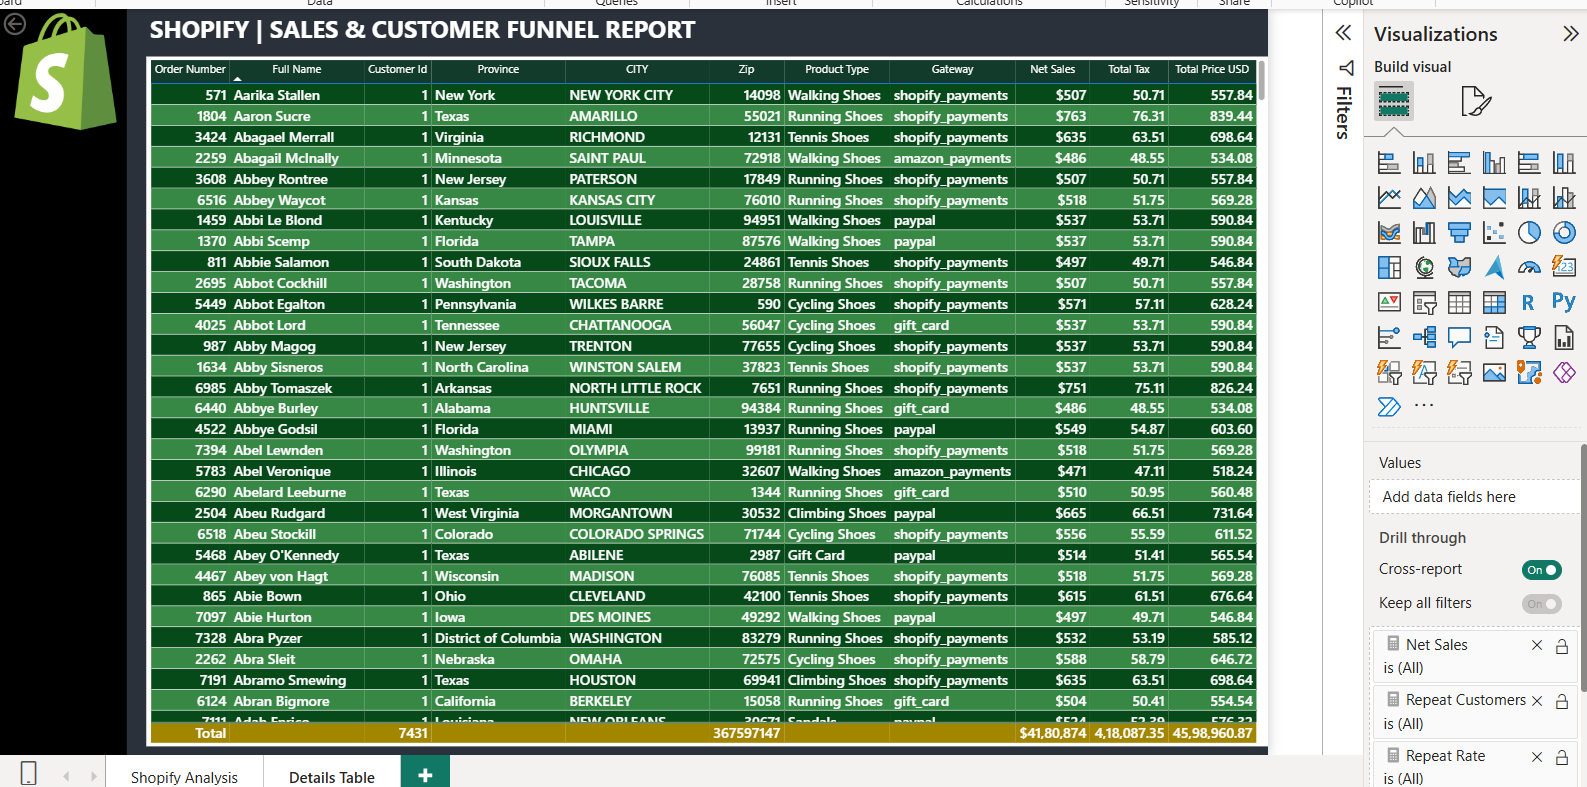

What the dashboard file says about the page in this screenshot:
{"tool":"powerbi","page":{"name":"Details Table","canvas":[1700,1000],"ordinal":1},"visuals":[{"type":"shape","box":[0,0,170,1000.3],"z":0},{"type":"textbox","box":[196,0,765.8,63.7],"z":1000},{"type":"shape","box":[196,63.7,1481.2,924.9],"z":2000},{"type":"image","box":[0,5,175.9,157.5],"z":3000},{"type":"tableEx","fields":{"Values":["shopify_sales.Order Number","shopify_sales.Full Name","CountNonNull(shopify_sales.Customer Id)","shopify_sales.Billing Address Province","shopify_sales.CITY","Sum(shopify_sales.Billing Address Zip)","shopify_sales.Product Type","shopify_sales.Gateway","shopify_sales.Net Sales","Sum(shopify_sales.Total Tax)","Sum(shopify_sales.Total Price Usd)"]},"box":[196,63.7,1504.7,924.9],"z":4000},{"type":"actionButton","box":[0,0,100,40],"z":5000}]}

Visuals, with their boxes in screenshot pixels (x1, y1, x2, y2):
shape: box(0, 4, 127, 751)
textbox: box(146, 4, 718, 52)
shape: box(146, 52, 1253, 743)
image: box(0, 8, 131, 126)
tableEx - shopify_sales.Order Number x shopify_sales.Full Name: box(146, 52, 1270, 743)
actionButton: box(0, 4, 75, 34)
